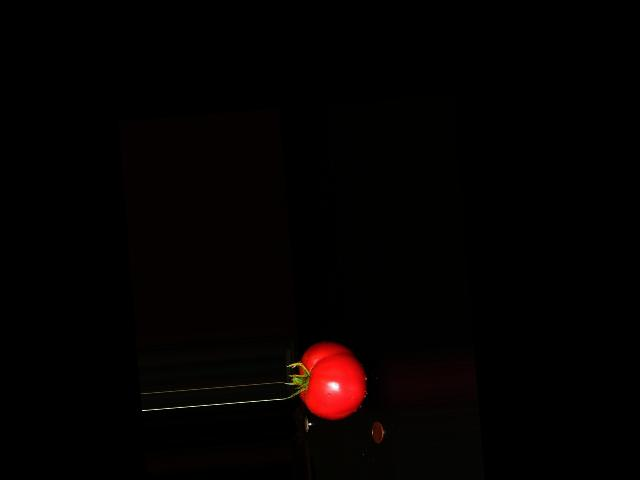tomato: (295, 336, 370, 422)
